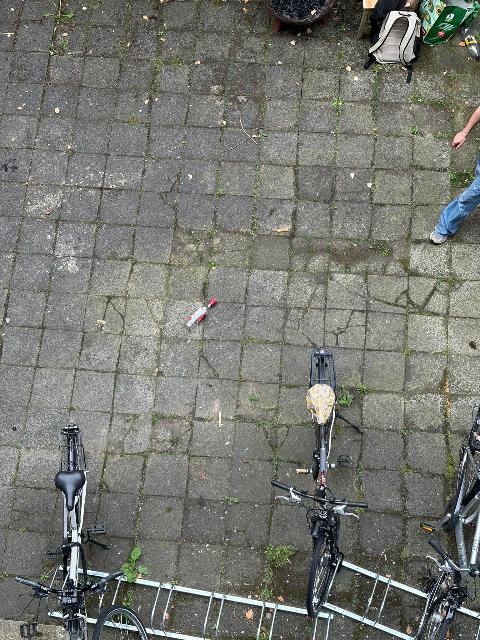glass_bottle: (184, 299, 216, 330)
plastic_bottle: (458, 27, 480, 60)
